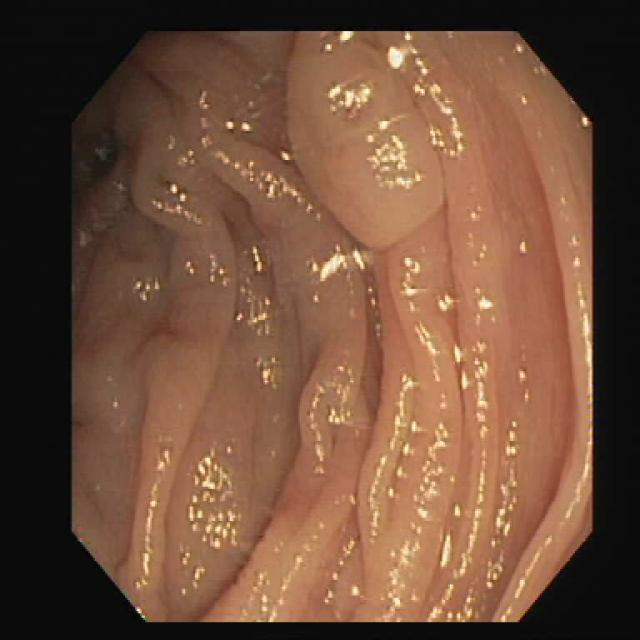tumor: (287, 33, 442, 247)
